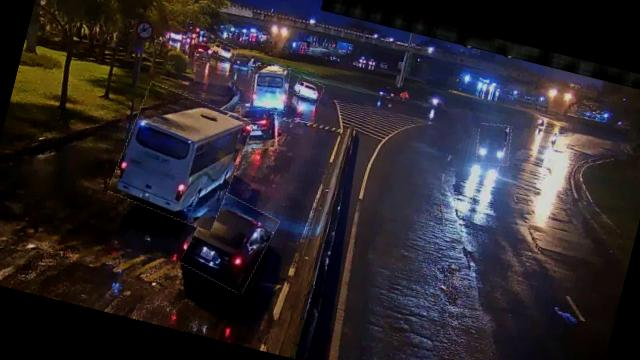Bus: (109, 82, 254, 231), (246, 62, 293, 114)
Car: (181, 190, 278, 295), (234, 98, 284, 153), (292, 77, 324, 102), (212, 40, 238, 62)
Truck: (472, 121, 515, 169)
